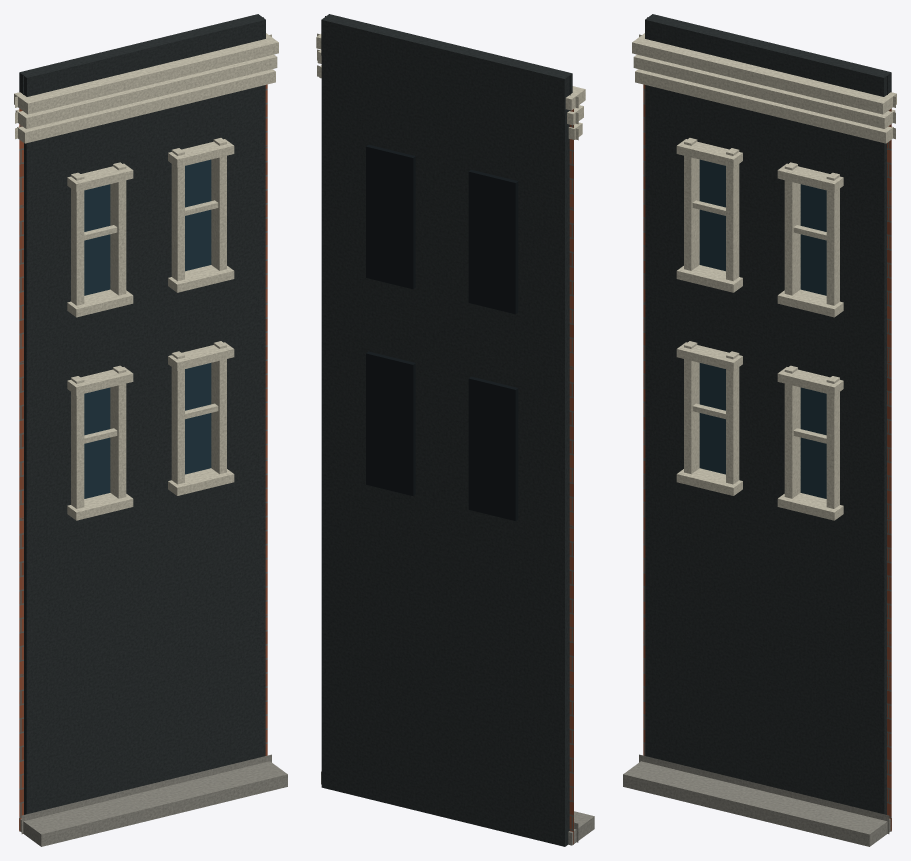
File: WRHS8_lod2.glb
3 views of the same model, side by side, from view 1: azimuth 30°, elevation 25°; view 2: azimuth 150°, elevation 25°; view 3: azimuth 330°, elevation 25° (orthographic).
Visible parts, largest first — view 1: WRHS8_FRONT_LOD2; view 2: WRHS8_FRONT_LOD2; view 3: WRHS8_FRONT_LOD2.
Part boxes in pixels (<box>): WRHS8_FRONT_LOD2: <box>14,14,287,846</box>; WRHS8_FRONT_LOD2: <box>316,14,594,846</box>; WRHS8_FRONT_LOD2: <box>623,14,896,846</box>.
Size of the model in its own units: 3.44 by 9.66 by 0.65.
Materials: 7 (5 with a texture image).
